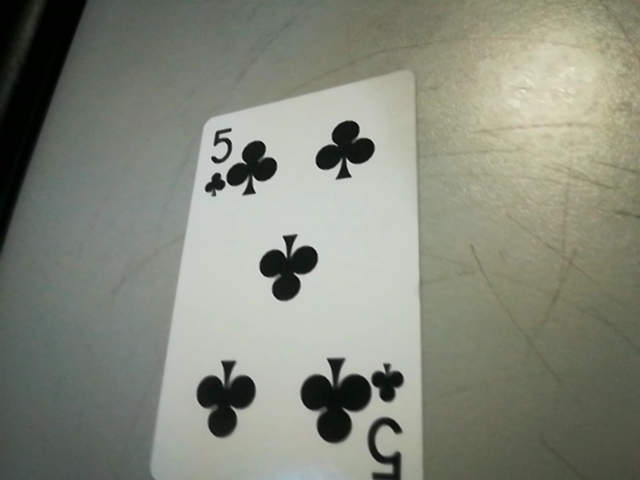mh 5: (362, 357, 420, 480)
